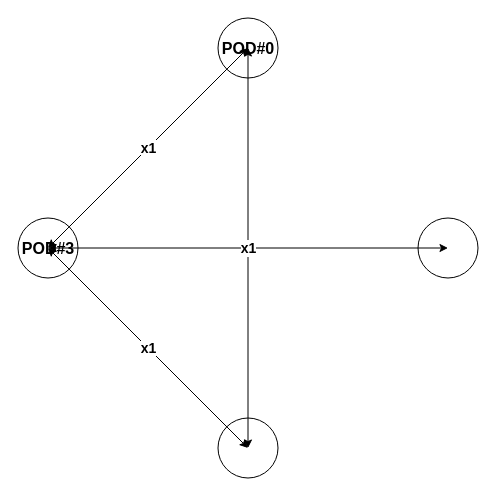
Some shapes in this 495 by 495 pixel diagram are drawn without their labels. Here are the shapes that lost their labels. From the top down, the centre of each, then its label:
the point at 447,247: POD#1
the point at 247,447: POD#2
